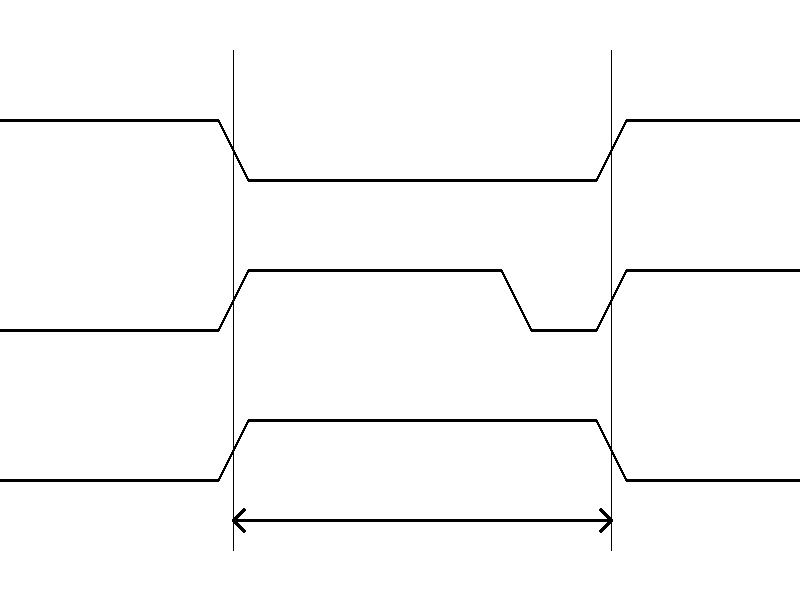double_arrow: (233, 505, 611, 535)
